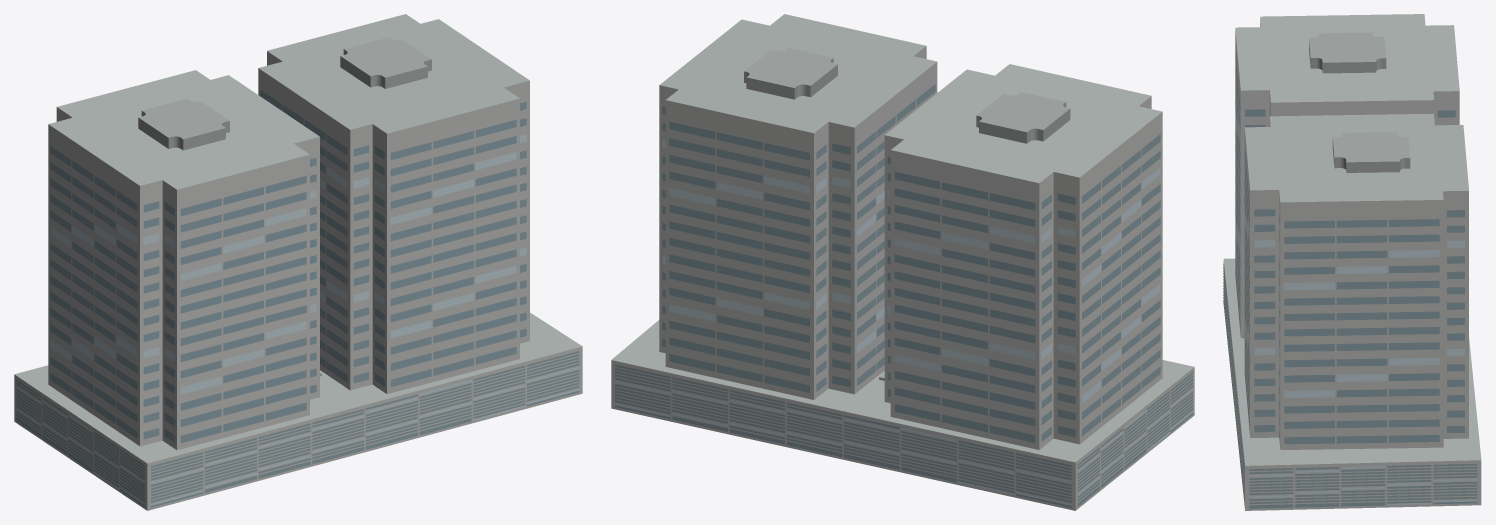
File: apt-a11041001.glb
3 renders of one model, left to right at view 1: azimuth 30°, elevation 25°; view 2: azimuth 150°, elevation 25°; view 3: azimuth 270°, elevation 25°, orthographic. The views are drawn at different scales.
Visible parts, largest first — view 1: apt-a11041001; view 2: apt-a11041001; view 3: apt-a11041001.
Boxes of the visible parts, x1,y1,x2,y2 form: apt-a11041001: [14, 14, 582, 510]; apt-a11041001: [611, 14, 1194, 510]; apt-a11041001: [1223, 14, 1481, 510].
Size of the model in its own units: 102 by 68.2 by 52.55.
